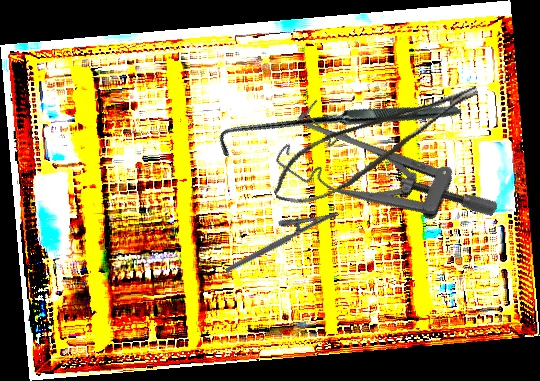Hook Surgical: (212, 5, 463, 253)
Micro Scissor: (261, 78, 495, 216)
Needle Holder: (216, 195, 340, 274)
Speculum: (270, 81, 501, 281)
Surgical Spoon: (304, 121, 422, 170)
